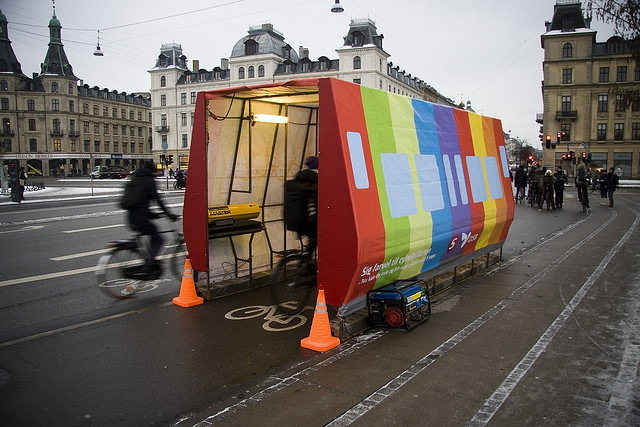non-vehicle: (94, 217, 190, 301), (271, 226, 318, 313)
